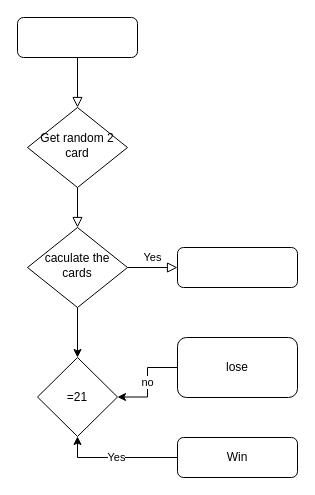
The diagram is 315 pixels wide and 495 high, and some of its shapes have lost their labels. Here are the shapes that lost their labels. From the top down, the centre of each, then its label:
At point 77,37: "Start".
At point 237,267: "Replace Bulb".
